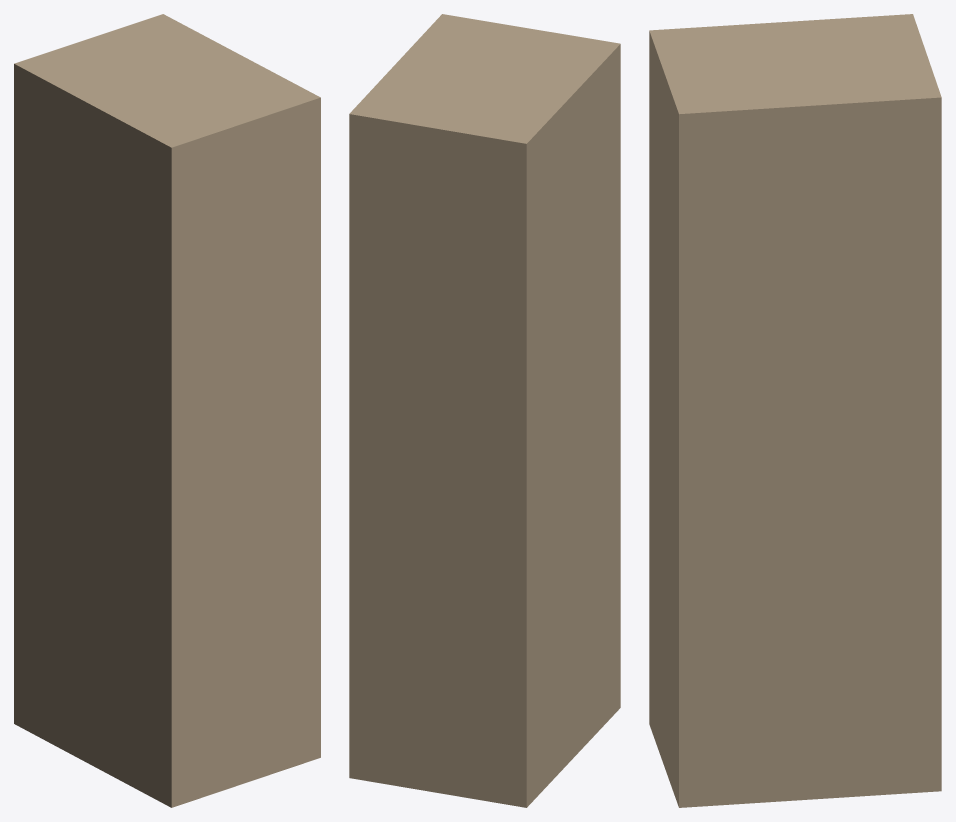
Rendered from bld_393483729.dae.
3 renders of one model, left to right at view 1: azimuth 30°, elevation 25°; view 2: azimuth 150°, elevation 25°; view 3: azimuth 270°, elevation 25°, orthographic. The views are drawn at different scales.
Parts seen in each view (by area): view 1: bld_393483729; view 2: bld_393483729; view 3: bld_393483729.
Boxes of the visible parts, bbox=[...] form: bld_393483729: bbox=[14, 14, 320, 807]; bld_393483729: bbox=[349, 14, 620, 807]; bld_393483729: bbox=[649, 14, 941, 807].
Bounding box in the file's own units: 2.48 × 3.06 × 8.
